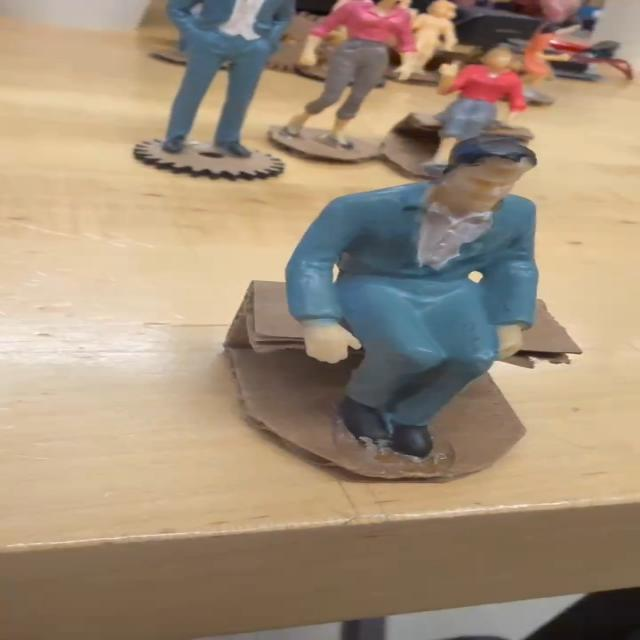Authorized: (291, 133, 552, 470)
